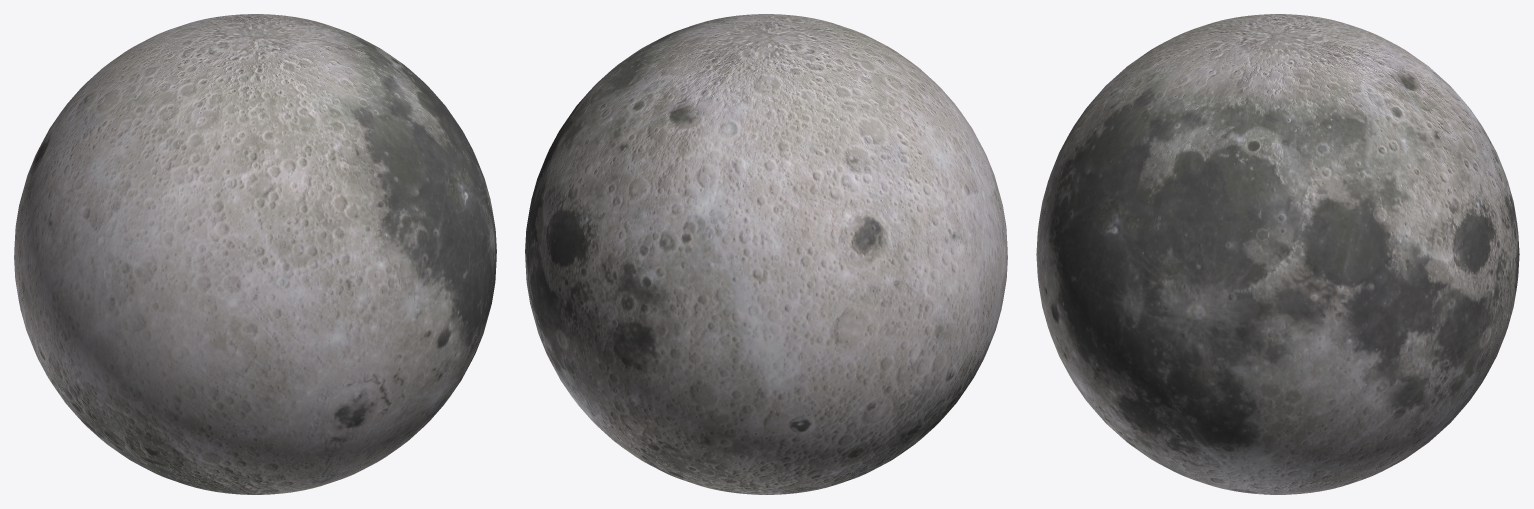
File: moon.glb
The picture shows the model from 3 angles, left to right: view 1: azimuth 30°, elevation 25°; view 2: azimuth 150°, elevation 25°; view 3: azimuth 270°, elevation 25°; orthographic projection.
Visible parts, largest first — view 1: Moon; view 2: Moon; view 3: Moon.
Part boxes in pixels (x1,y1,x2,y2): Moon: [14, 14, 496, 494]; Moon: [525, 14, 1007, 494]; Moon: [1036, 14, 1519, 494].
Size of the model in its own units: 0.5 by 0.5 by 0.5.
1 material, 1 textured.
